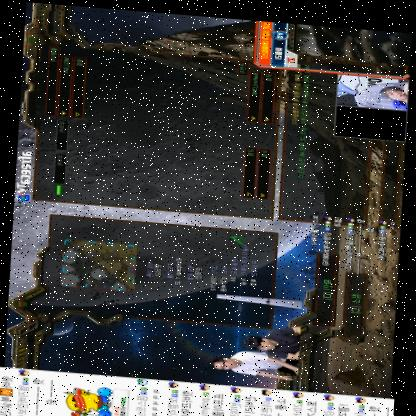donation: (64, 381, 135, 416)
streamer: (210, 344, 302, 376), (245, 317, 303, 354), (377, 74, 409, 104)
